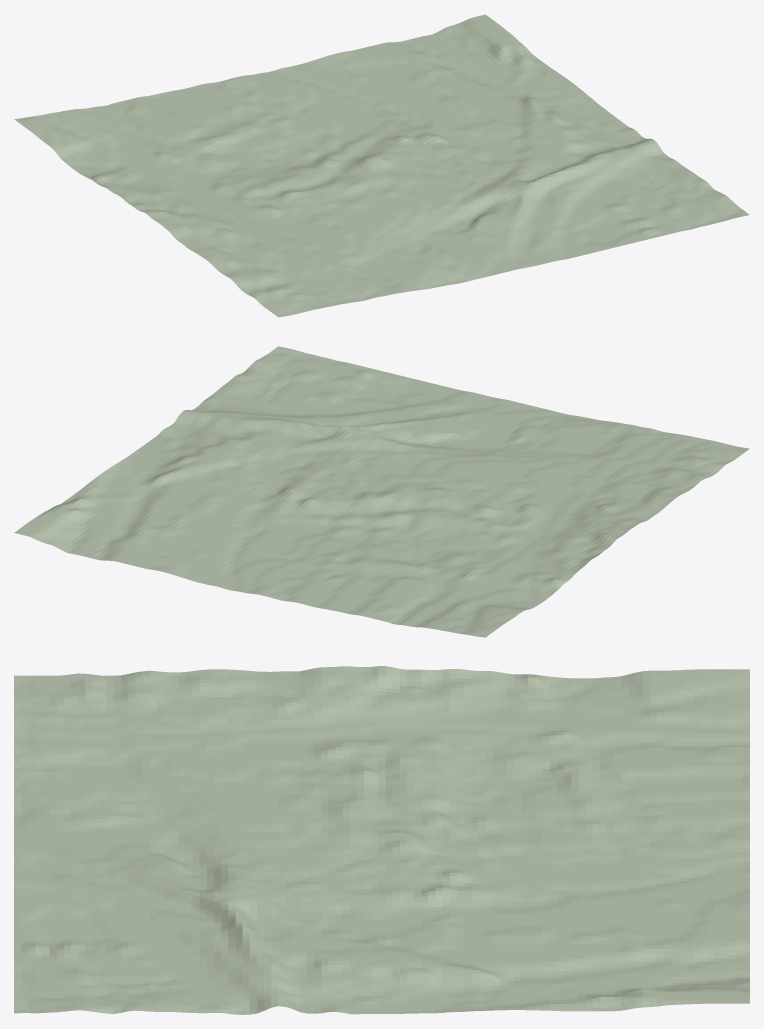
File: terrain-context-v0.2.glb
3 views of the same model, one above another, from view 1: azimuth 30°, elevation 25°; view 2: azimuth 150°, elevation 25°; view 3: azimuth 270°, elevation 25° (orthographic). The views are drawn at different scales.
Visible parts, largest first — view 1: IGN_MDT05_TERRAIN_CONTEXT; view 2: IGN_MDT05_TERRAIN_CONTEXT; view 3: IGN_MDT05_TERRAIN_CONTEXT.
Boxes of the visible parts, x1,y1,x2,y2 form: IGN_MDT05_TERRAIN_CONTEXT: (14, 14, 749, 317); IGN_MDT05_TERRAIN_CONTEXT: (14, 346, 749, 637); IGN_MDT05_TERRAIN_CONTEXT: (14, 666, 749, 1014).
Bounding box in the file's own units: 530 × 22.23 × 515.
